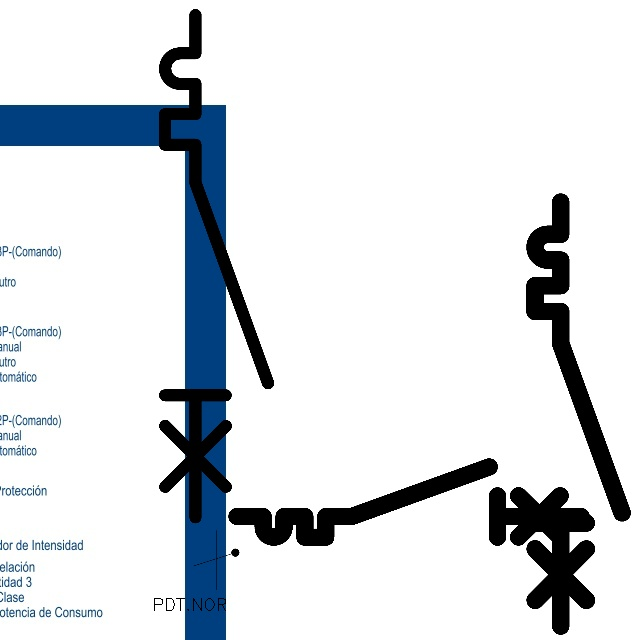interruptor_termomagnetico: (152, 2, 281, 530), (524, 191, 633, 636), (228, 458, 590, 546)
